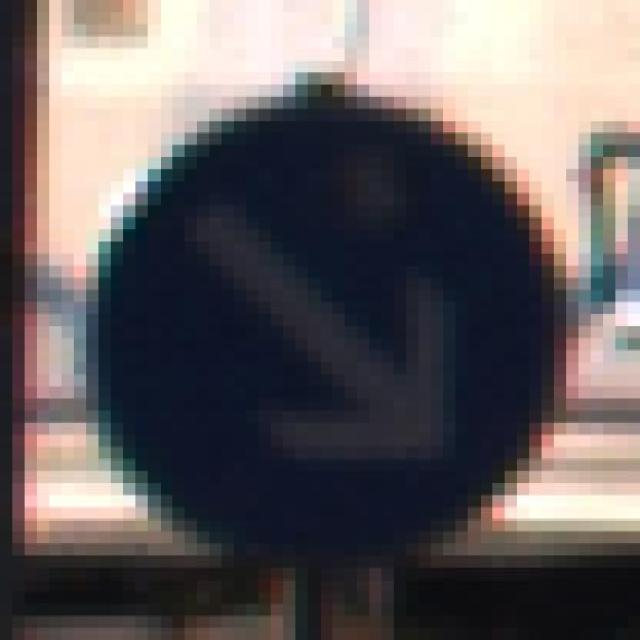Keep-Right: (86, 85, 591, 580)
